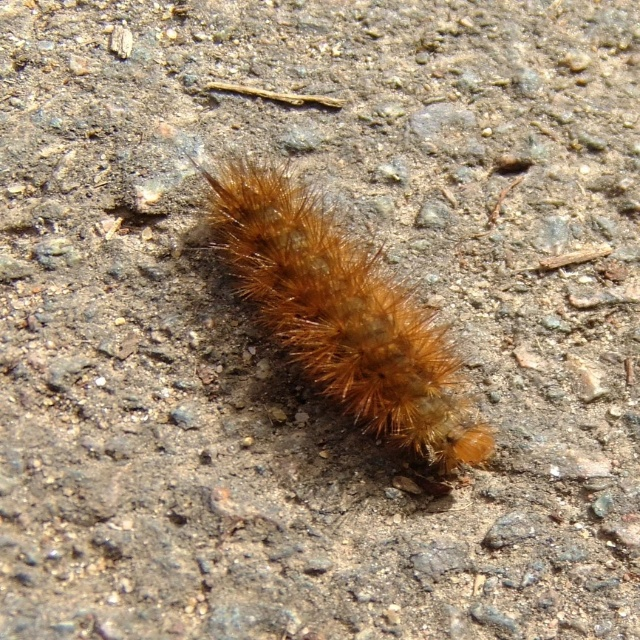Caterpillar: (187, 139, 500, 468)
